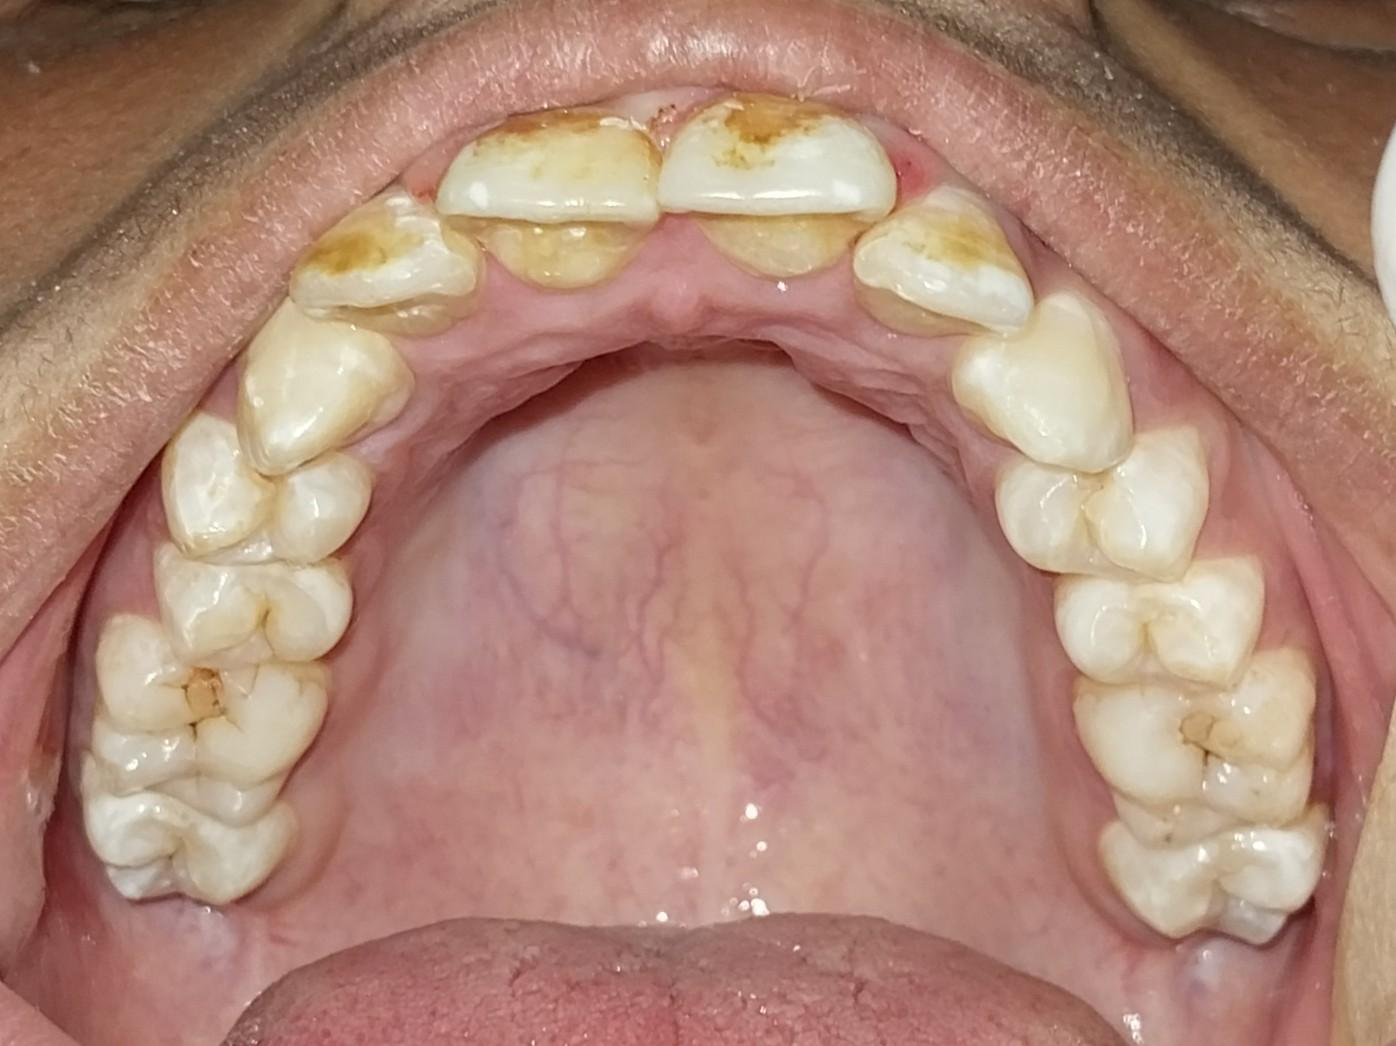D: (94, 615, 332, 824), (1073, 648, 1312, 845)
